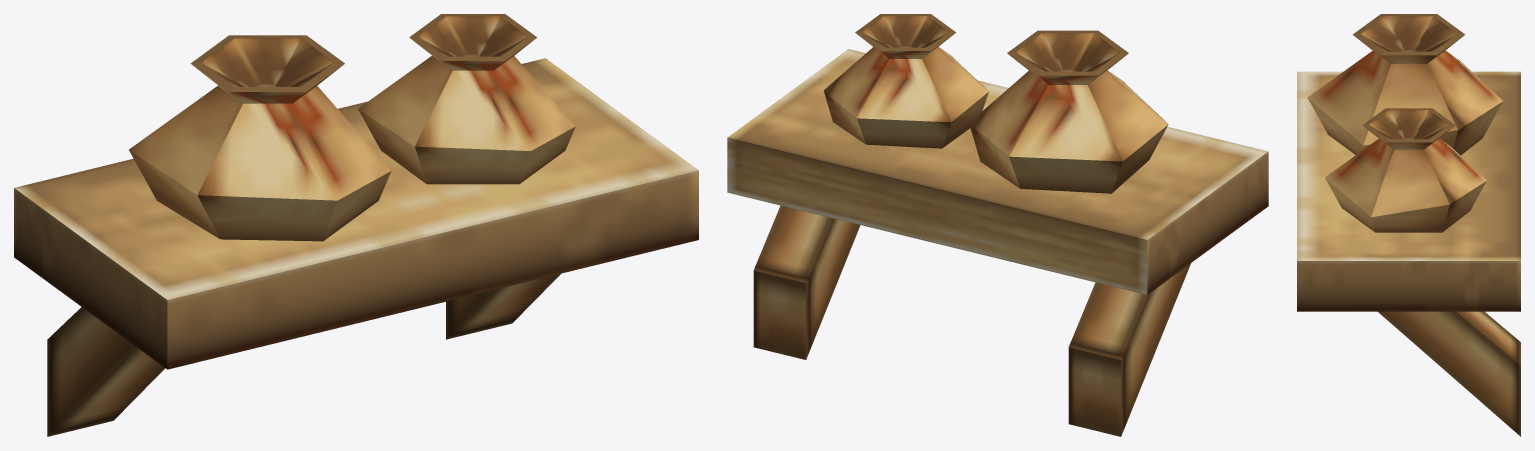
Rendered from Inside_Poly_Shelf_Wall_04.obj.
3 renders of one model, left to right at view 1: azimuth 30°, elevation 25°; view 2: azimuth 150°, elevation 25°; view 3: azimuth 270°, elevation 25°, orthographic. The views are drawn at different scales.
Visible parts, largest first — view 1: Cube.001, Circle, Cube.003; view 2: Cube.001, Circle, Cube.003; view 3: Cube.001, Circle, Cube.003.
Part boxes in pixels (<box>): Cube.001: <box>14,58,698,369</box>; Circle: <box>129,14,575,241</box>; Cube.003: <box>47,273,560,436</box>; Cube.001: <box>727,49,1268,294</box>; Circle: <box>823,14,1168,193</box>; Cube.003: <box>753,205,1190,436</box>; Cube.001: <box>1297,71,1520,311</box>; Circle: <box>1307,14,1502,232</box>; Cube.003: <box>1378,311,1520,436</box>.
Bounding box in the file's own units: 0.8 × 0.5689 × 0.4.
Materials: 1 (1 with a texture image).
